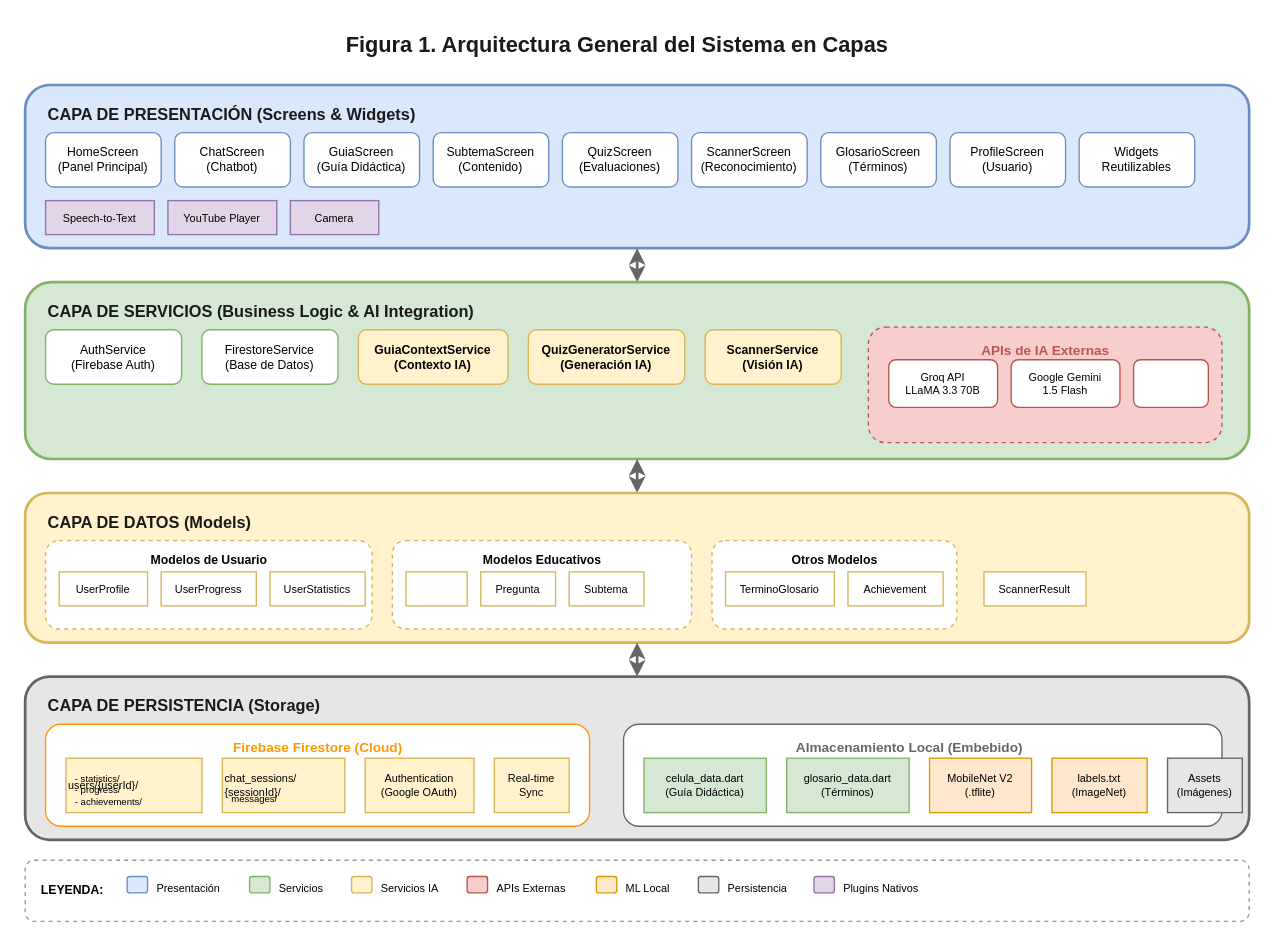
The diagram is 1273 pixels wide and 945 high, and some of its shapes have lost their labels. The shapes that lost their labels are listed below. From the top down, each one's centre as x and y in pixels, then its label:
point (1170, 382): Firebase Services
point (436, 588): Quiz
